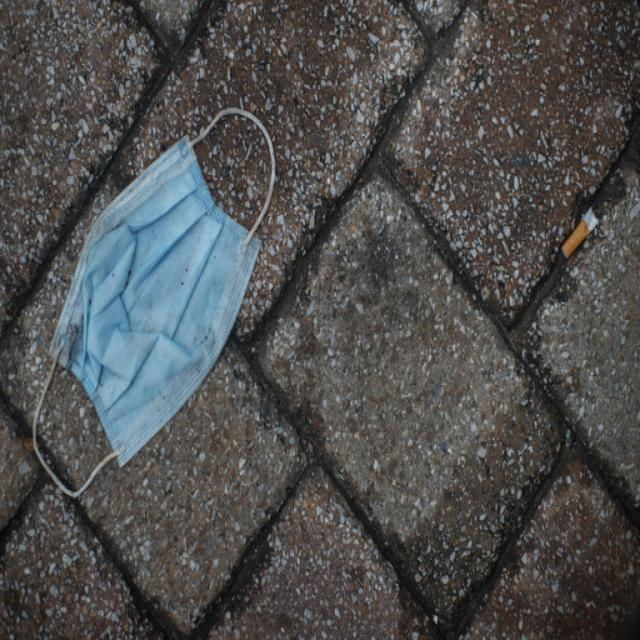face mask: (34, 101, 275, 498)
